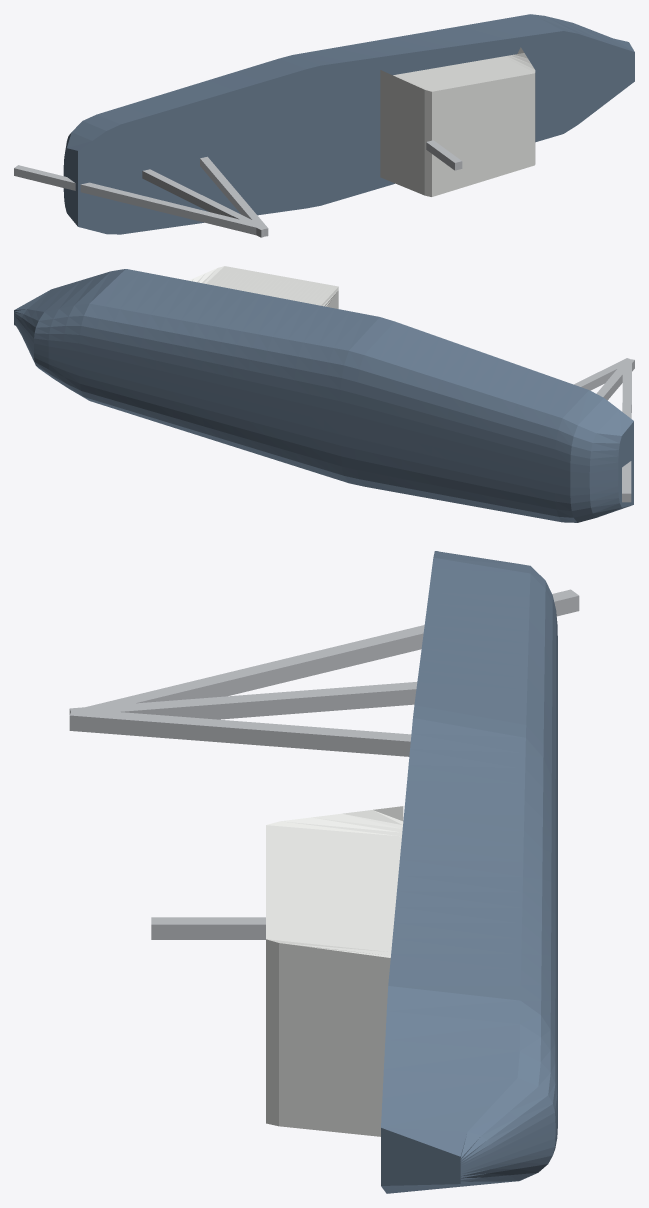
Rendered from loft-trawler.glb.
3 renders of one model, top to bottom at view 1: azimuth 30°, elevation 25°; view 2: azimuth 150°, elevation 25°; view 3: azimuth 270°, elevation 25°, orthographic. The views are drawn at different scales.
Visible parts, largest first — view 1: trawler; view 2: trawler; view 3: trawler.
Part boxes in pixels (x1,y1,x2,y2): trawler: [14, 14, 634, 237]; trawler: [14, 266, 634, 522]; trawler: [69, 551, 579, 1193].
Bounding box in the file's own units: 1.92 × 0.438 × 0.7216.
